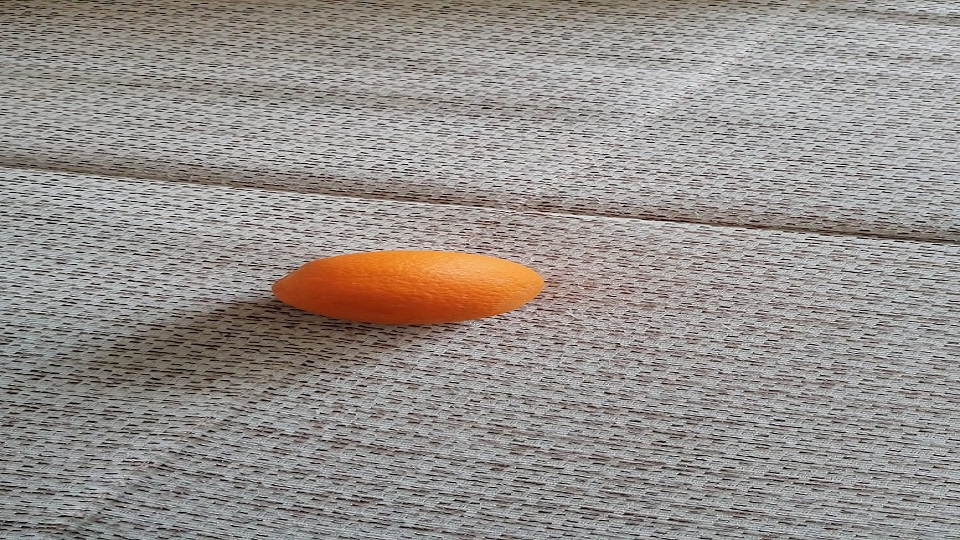portakal: (272, 249, 545, 326)
